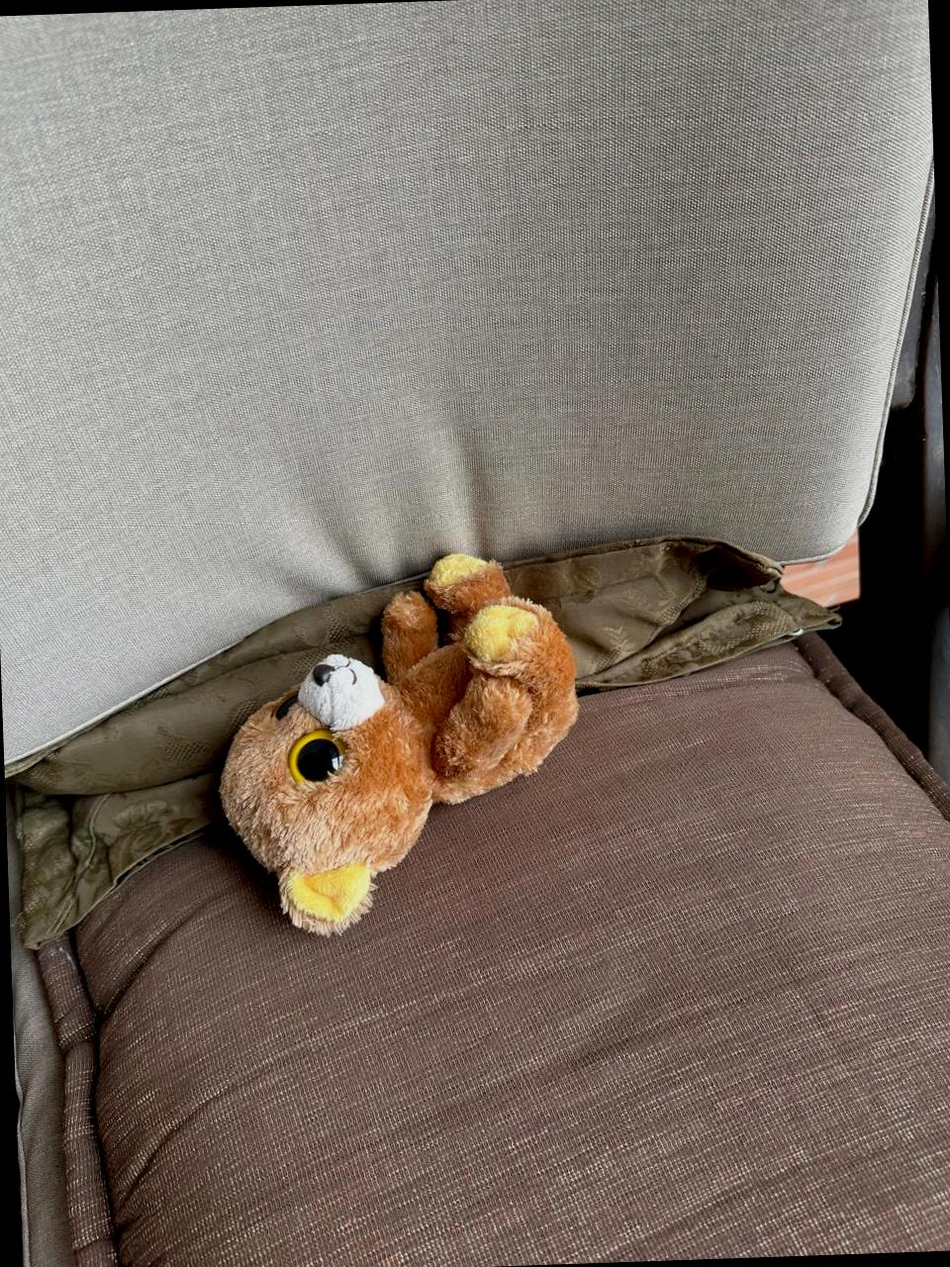peluche_sebastian: (205, 553, 589, 939)
